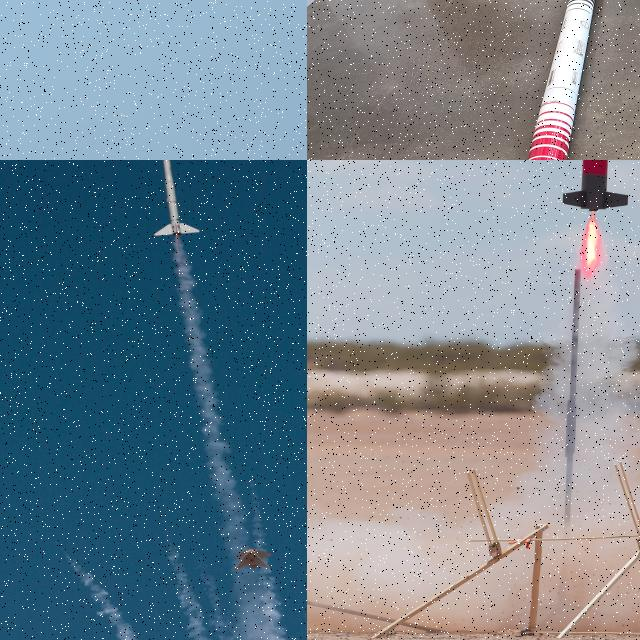Rocket: (527, 0, 595, 160), (560, 160, 631, 213), (154, 160, 200, 236), (121, 113, 129, 119)
